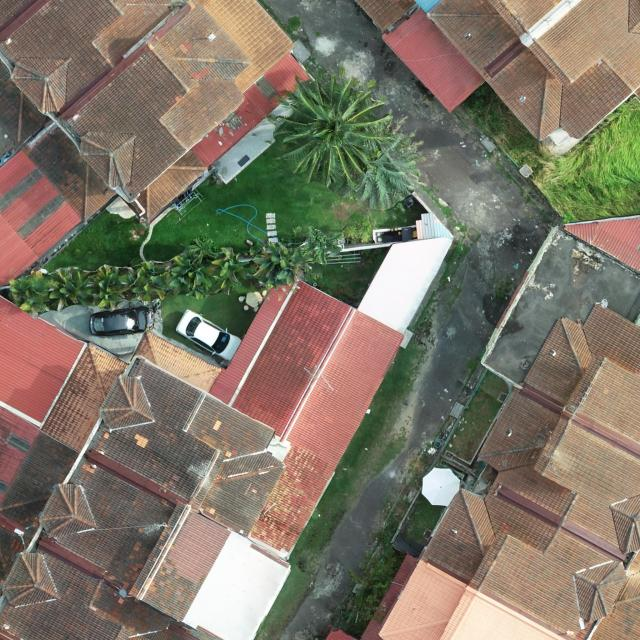Tree: (273, 74, 393, 192), (341, 134, 418, 212), (253, 240, 313, 289), (169, 245, 215, 300), (210, 246, 258, 295), (8, 270, 58, 316), (87, 263, 135, 310), (48, 267, 94, 311), (298, 225, 347, 265), (130, 256, 172, 302)
